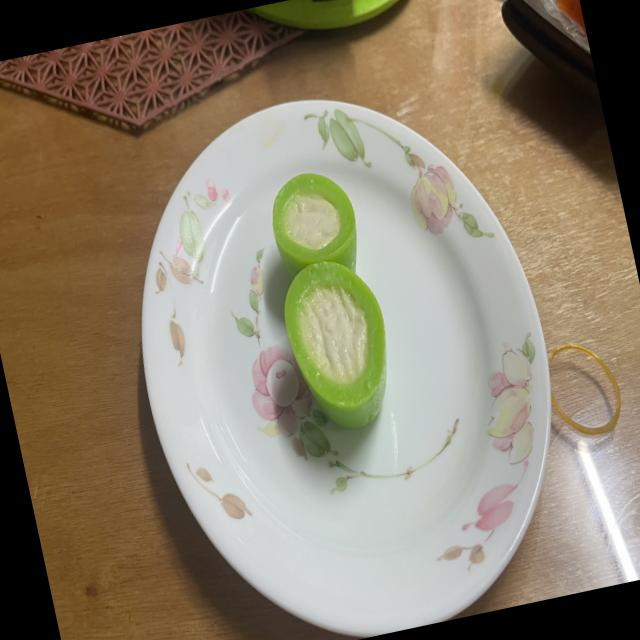nona-manis: (284, 261, 386, 428), (272, 172, 356, 278)
